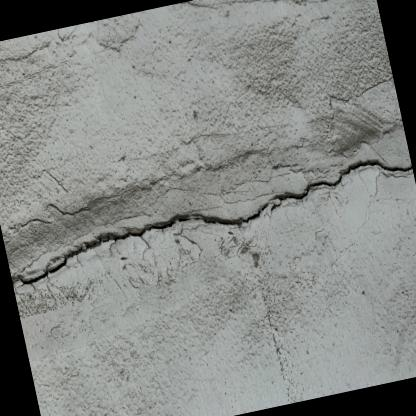crack: (8, 152, 413, 291)
